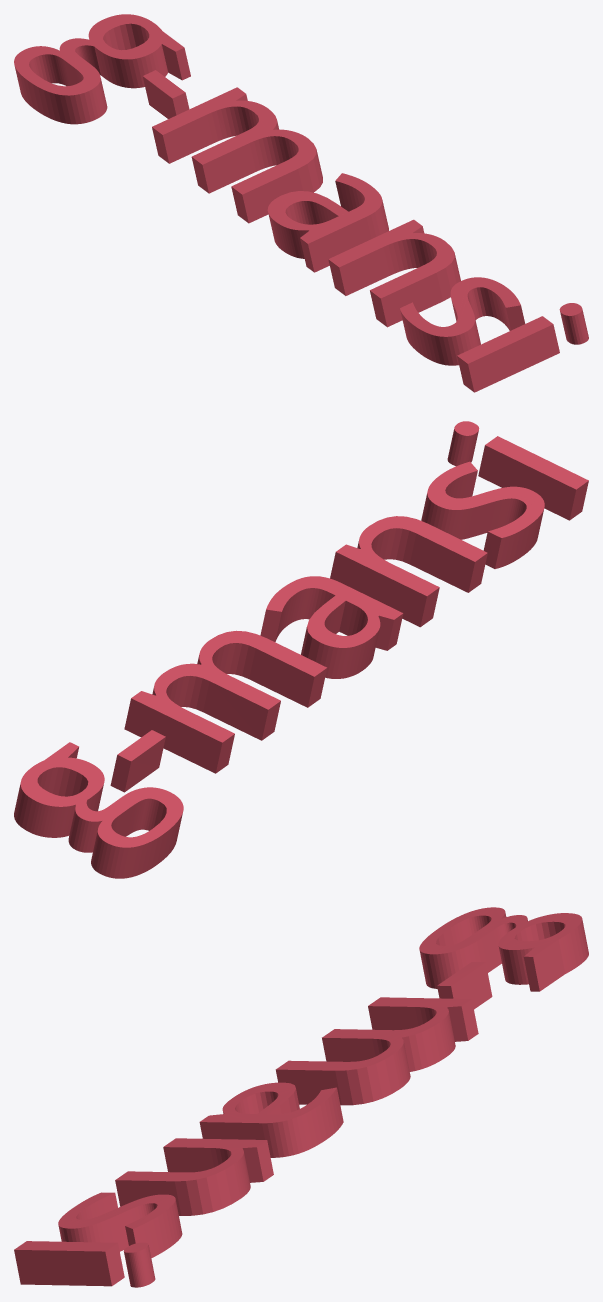
The model's file is Smooth Kieran-Tumelo.glb.
The picture shows the model from 3 angles, top to bottom: view 1: azimuth 30°, elevation 25°; view 2: azimuth 150°, elevation 25°; view 3: azimuth 330°, elevation 25°; orthographic projection. The views are drawn at different scales.
Parts seen in each view (by area): view 1: Mesh_Mesh_head_geo.001_lambert2SG.001; view 2: Mesh_Mesh_head_geo.001_lambert2SG.001; view 3: Mesh_Mesh_head_geo.001_lambert2SG.001.
Part boxes in pixels (box(x1,y1,x2,y2)): Mesh_Mesh_head_geo.001_lambert2SG.001: box(14, 14, 588, 392); Mesh_Mesh_head_geo.001_lambert2SG.001: box(14, 421, 588, 878); Mesh_Mesh_head_geo.001_lambert2SG.001: box(14, 907, 588, 1287).
Bounding box in the file's own units: 9.99 × 4.63 × 52.07.
